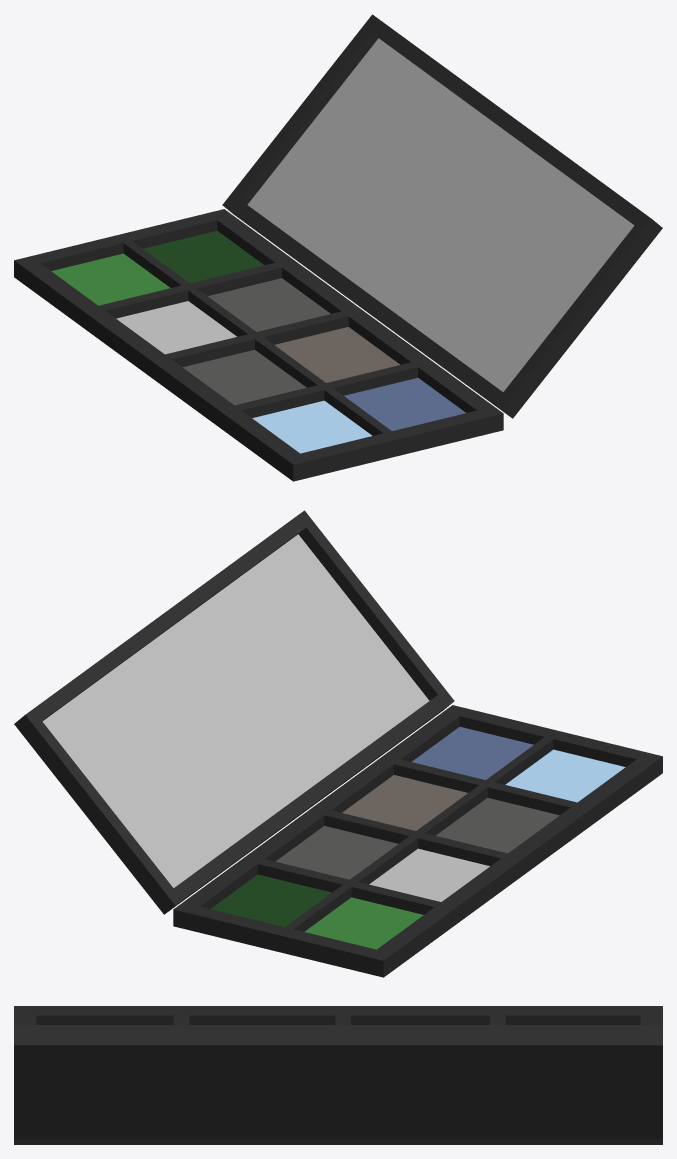
The model's file is Eyeshadow_01.fbx.
3 views of the same model, one above another, from view 1: azimuth 30°, elevation 25°; view 2: azimuth 150°, elevation 25°; view 3: azimuth 270°, elevation 25° (orthographic). The views are drawn at different scales.
Parts seen in each view (by area): view 1: Eyeshadow_01; view 2: Eyeshadow_01; view 3: Eyeshadow_01.
Part boxes in pixels (<box>): Eyeshadow_01: <box>14,14,662,481</box>; Eyeshadow_01: <box>14,510,662,977</box>; Eyeshadow_01: <box>14,1006,662,1144</box>.
Bounding box in the file's own units: 48.52 × 22 × 63.49.
